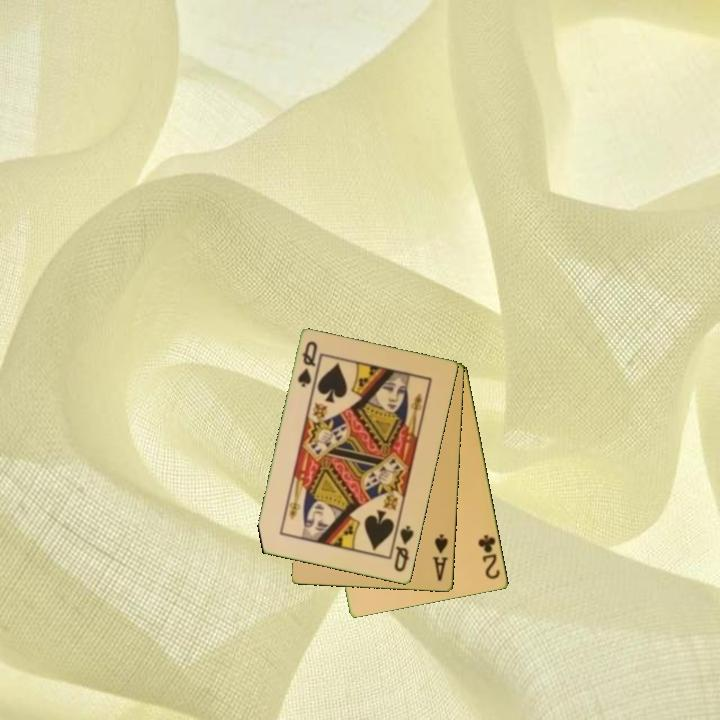2c: (475, 531, 503, 582)
As: (429, 531, 451, 584)
Qs: (391, 522, 417, 575), (294, 338, 320, 390)
